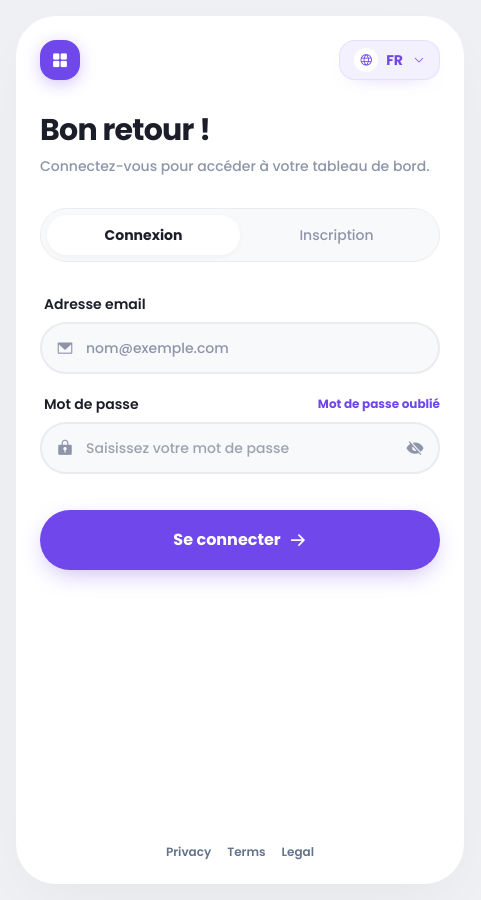
Test case: App › cycles the login page from French to English and Spanish
Click the button "FR" at (390, 60), box [339,40,440,80]
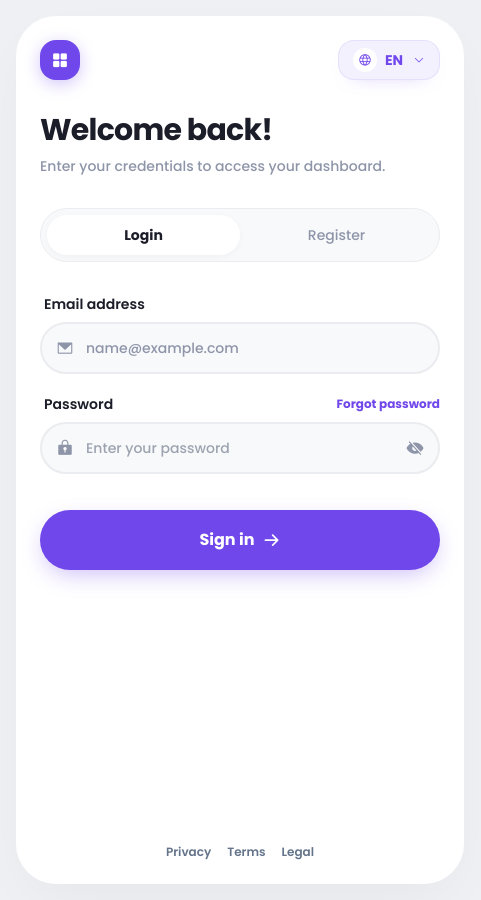
Now the button "Login" is shown, box [47,215,240,255]
Click the button "EN" at (389, 60), box [338,40,440,80]
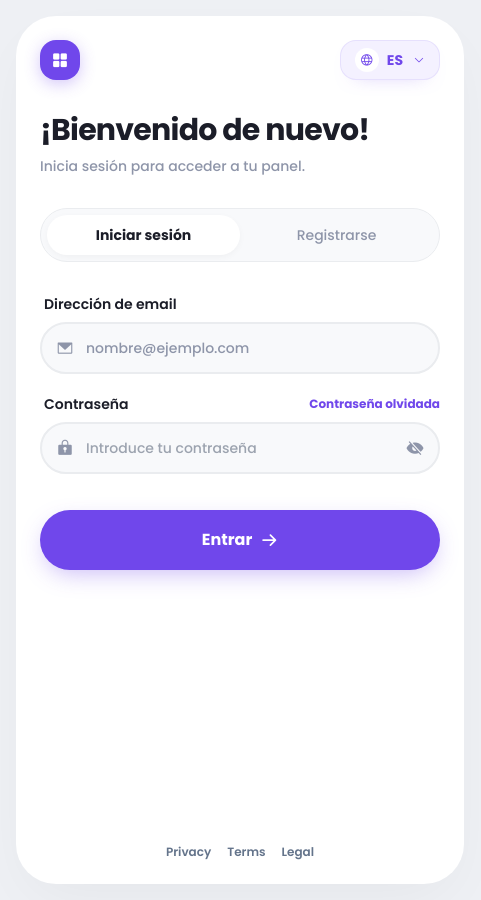
Now the button "Iniciar sesión" is shown, box [47,215,240,255]
